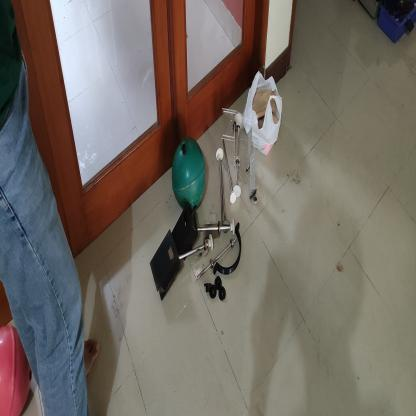green_buoy: (171, 136, 207, 214)
red_buoy: (0, 323, 33, 415)
